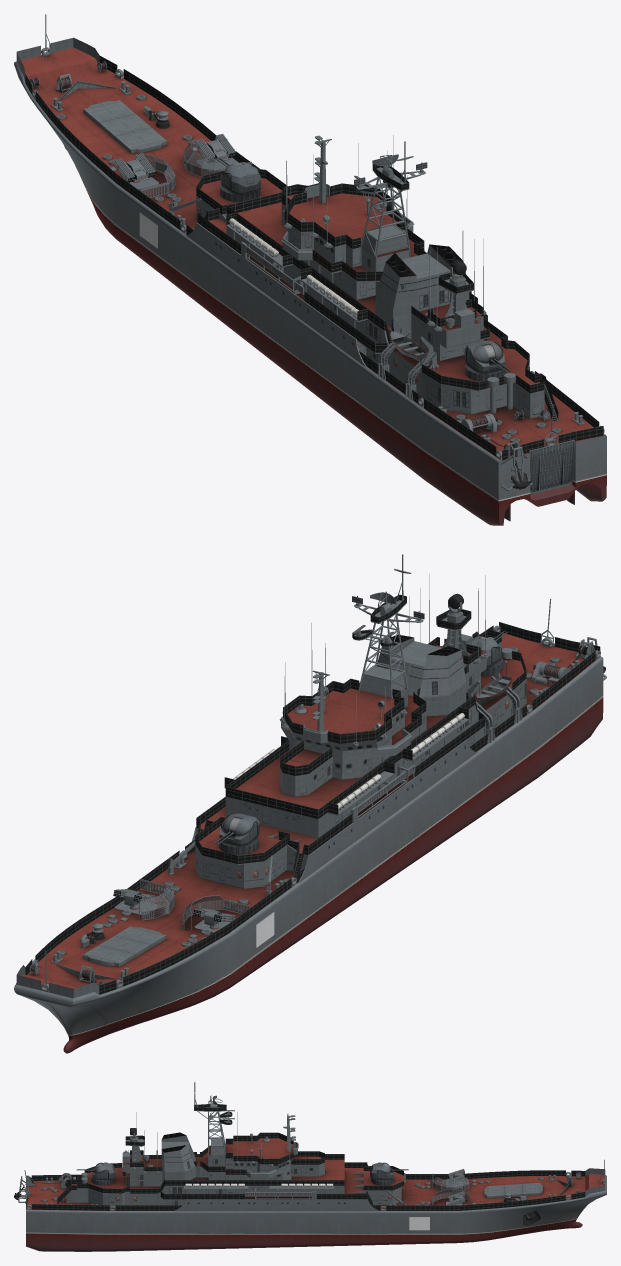
3 renders of one model, top to bottom at view 1: azimuth 30°, elevation 25°; view 2: azimuth 150°, elevation 25°; view 3: azimuth 270°, elevation 25°, orthographic. The views are drawn at different scales.
Visible parts, largest first — view 1: Hull, superstructure, Deck, rail_out, rail_in, AK-725, WH, details, grad, cranes, big_det, grid_in (+7 smaller); view 2: Hull, superstructure, Deck, rail_out, rail_in, WH, details, AK-725, cranes, rail_in_clip, rail_out_clip, grid_in (+6 smaller); view 3: Hull, superstructure, Deck, rail_out, rail_in, AK-725, WH, details, rail_in_clip, rail_out_clip, grid_in, rafts (+7 smaller).
Boxes of the visible parts, <box> form: Hull: <box>14,61,606,525</box>; superstructure: <box>57,80,574,450</box>; Deck: <box>21,47,604,460</box>; rail_out: <box>16,38,602,459</box>; rail_in: <box>16,37,603,460</box>; AK-725: <box>215,157,510,381</box>; WH: <box>284,193,386,249</box>; details: <box>30,14,604,460</box>; grad: <box>114,133,238,189</box>; cranes: <box>169,198,439,400</box>; big_det: <box>56,73,521,456</box>; grid_in: <box>141,142,251,197</box>; Hull: <box>14,637,606,1053</box>; superstructure: <box>56,554,554,979</box>; Deck: <box>22,632,595,989</box>; rail_out: <box>16,593,599,997</box>; rail_in: <box>16,593,600,998</box>; WH: <box>283,705,391,761</box>; details: <box>29,599,600,992</box>; AK-725: <box>214,631,507,854</box>; cranes: <box>168,660,522,895</box>; rail_in_clip: <box>280,678,404,775</box>; rail_out_clip: <box>280,679,404,775</box>; grid_in: <box>140,879,249,928</box>; Hull: <box>18,1175,606,1251</box>; superstructure: <box>26,1082,568,1211</box>; Deck: <box>26,1141,605,1210</box>; rail_out: <box>27,1096,604,1210</box>; rail_in: <box>26,1096,605,1210</box>; AK-725: <box>76,1162,408,1185</box>; WH: <box>257,1138,293,1175</box>; details: <box>24,1151,605,1210</box>; rail_in_clip: <box>225,1132,324,1164</box>; rail_out_clip: <box>225,1133,324,1164</box>; grid_in: <box>432,1177,469,1203</box>; rafts: <box>185,1183,333,1187</box>.
Size of the model in its own units: 15.04 by 115 by 33.16.
Materials: 8 (8 with a texture image).
